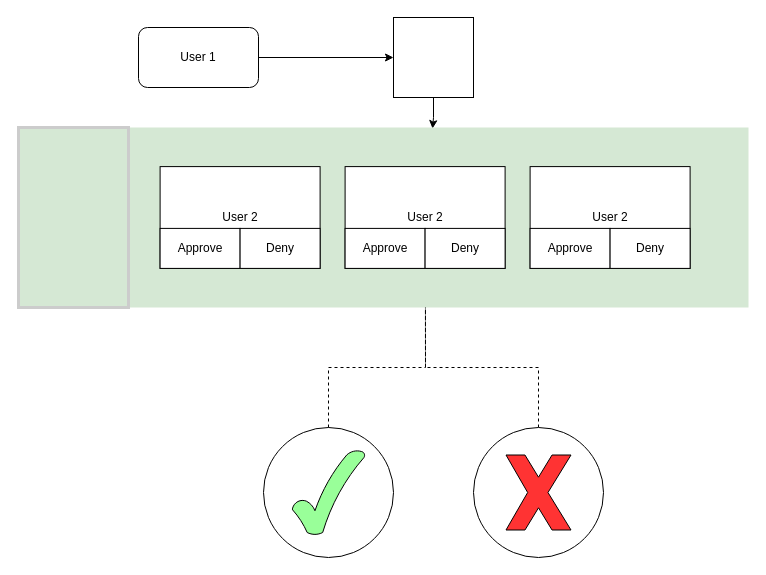
Image size: 766x575. Some labels were removed from this diagram. Here are the shapes that lost their labels. From the top down, the centre of each, then its label:
point 433,57: Begin Transaction
point 73,217: Approve / Deny
